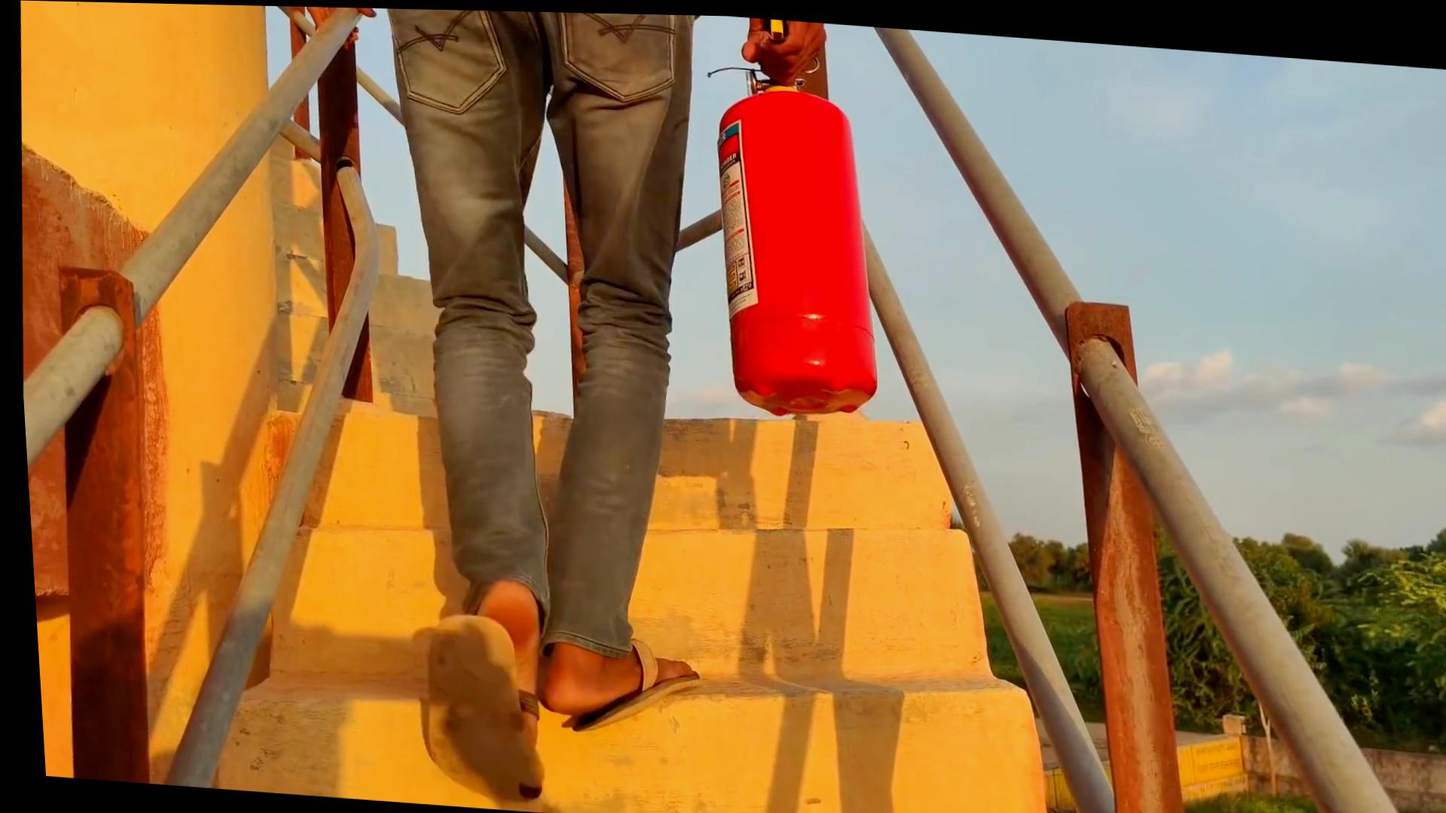FireExtinguisher: (656, 20, 907, 446)
